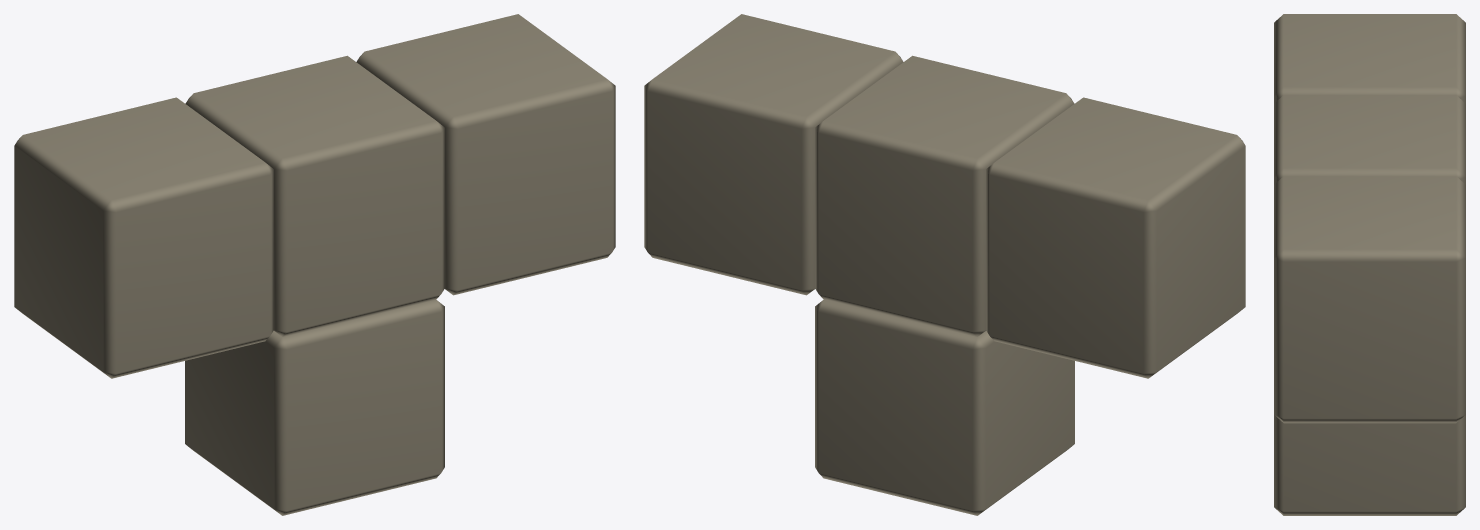
Rendered from FinNeutral2.fbx.
The picture shows the model from 3 angles, left to right: view 1: azimuth 30°, elevation 25°; view 2: azimuth 150°, elevation 25°; view 3: azimuth 270°, elevation 25°; orthographic projection. The views are drawn at different scales.
Visible parts, largest first — view 1: geo1; view 2: geo1; view 3: geo1.
Boxes of the visible parts, left/top/right/bottom form: geo1: left=14, top=14, right=615, bottom=515; geo1: left=644, top=14, right=1245, bottom=515; geo1: left=1274, top=14, right=1465, bottom=515.
Size of the model in its own units: 3 by 2 by 1.
